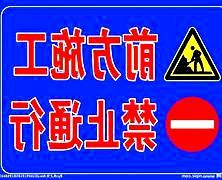sign: (2, 3, 222, 176)
